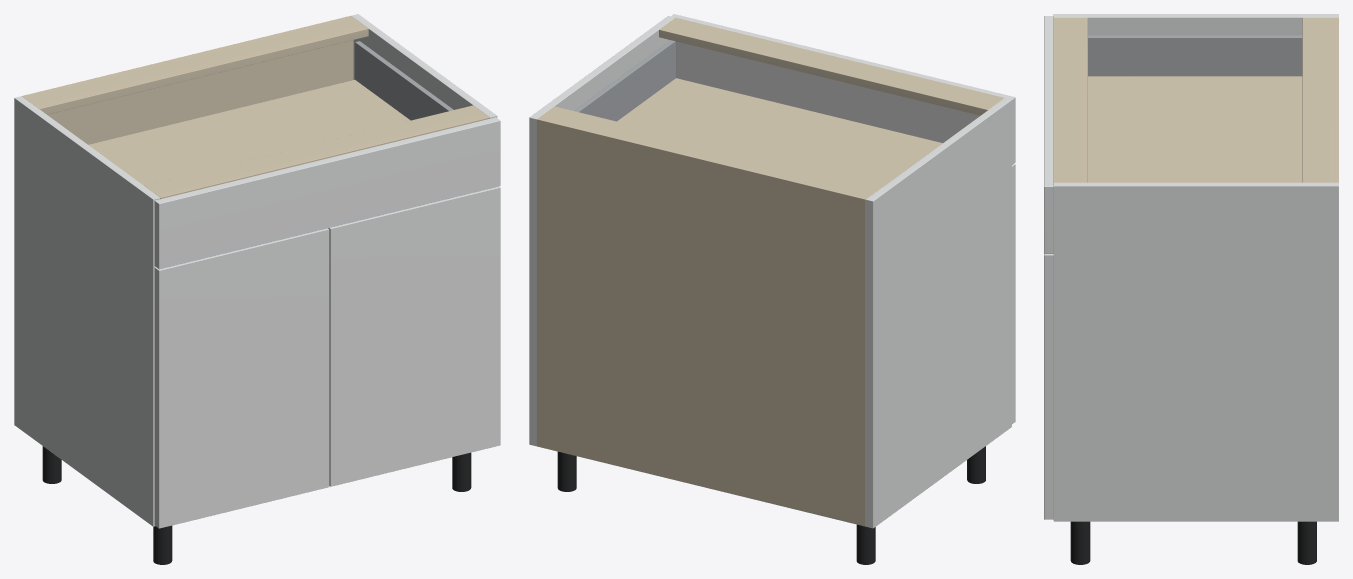
Rendered from oppein-ply-pgw-b33.glb.
The picture shows the model from 3 angles, left to right: view 1: azimuth 30°, elevation 25°; view 2: azimuth 150°, elevation 25°; view 3: azimuth 270°, elevation 25°; orthographic projection. The views are drawn at different scales.
Parts seen in each view (by area): view 1: Cabinet side, Door, Door.001, Drawer front, Drawer floor, Cabinet back, Top support rail, Top support rail.001, Drawer side.001, Cabinet side.001, Adjustable foot.001, Adjustable foot.003 (+1 smaller); view 2: Cabinet back, Cabinet side, Drawer floor, Drawer front, Top support rail.001, Cabinet side.001, Top support rail, Drawer side.001, Door, Adjustable foot, Adjustable foot.002; view 3: Cabinet side.001, Drawer floor, Drawer side, Top support rail.001, Top support rail, Cabinet side, Door.001, Drawer front, Cabinet back, Adjustable foot.003, Adjustable foot.002.
Part boxes in pixels (bbox=[...]): Cabinet side: bbox=[14, 96, 160, 526]; Door: bbox=[154, 228, 329, 528]; Door.001: bbox=[328, 186, 500, 486]; Drawer front: bbox=[154, 117, 500, 269]; Drawer floor: bbox=[88, 80, 410, 185]; Cabinet back: bbox=[22, 16, 353, 144]; Top support rail: bbox=[24, 17, 368, 114]; Top support rail.001: bbox=[144, 105, 489, 198]; Drawer side.001: bbox=[355, 41, 453, 120]; Cabinet side.001: bbox=[351, 14, 497, 118]; Adjustable foot.001: bbox=[153, 525, 172, 564]; Adjustable foot.003: bbox=[452, 452, 471, 491]; Cabinet back: bbox=[536, 117, 867, 526]; Cabinet side: bbox=[866, 98, 1011, 528]; Drawer floor: bbox=[617, 78, 942, 186]; Drawer front: bbox=[671, 14, 1015, 164]; Top support rail.001: bbox=[659, 17, 1004, 115]; Cabinet side.001: bbox=[529, 16, 674, 446]; Top support rail: bbox=[540, 106, 883, 198]; Drawer side.001: bbox=[574, 40, 676, 121]; Door: bbox=[1012, 163, 1015, 423]; Adjustable foot: bbox=[856, 524, 875, 564]; Adjustable foot.002: bbox=[557, 451, 576, 491]; Cabinet side.001: bbox=[1053, 182, 1338, 521]; Drawer floor: bbox=[1088, 76, 1302, 182]; Drawer side: bbox=[1088, 35, 1302, 76]; Top support rail.001: bbox=[1053, 17, 1087, 182]; Top support rail: bbox=[1302, 17, 1333, 182]; Cabinet side: bbox=[1053, 14, 1338, 35]; Door.001: bbox=[1044, 254, 1053, 519]; Drawer front: bbox=[1044, 16, 1053, 253]; Cabinet back: bbox=[1333, 17, 1338, 182]; Adjustable foot.003: bbox=[1070, 521, 1090, 564]; Adjustable foot.002: bbox=[1297, 521, 1316, 564].
Bounding box in the file's own units: 0.8382 × 0.8763 × 0.6064.
